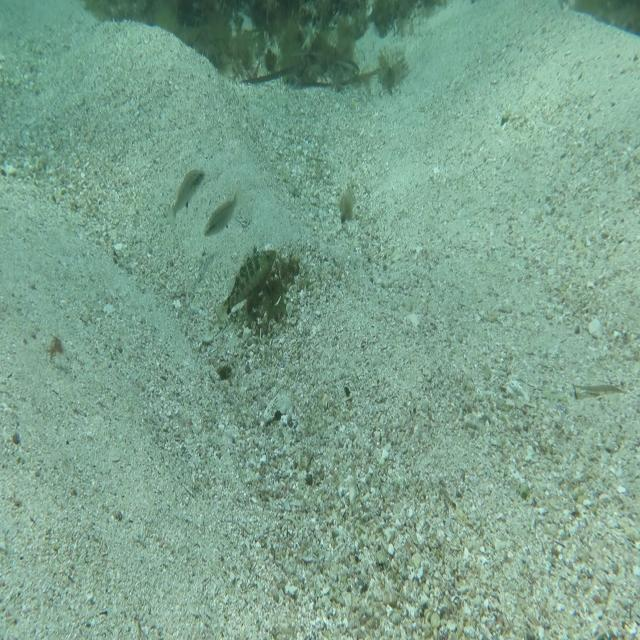ROLL: (212, 239, 280, 333)
female: (165, 162, 206, 224), (202, 180, 242, 243)
nest: (238, 242, 302, 334)
vegetation: (84, 0, 451, 31), (206, 34, 394, 92), (338, 178, 359, 228), (45, 327, 62, 366)
